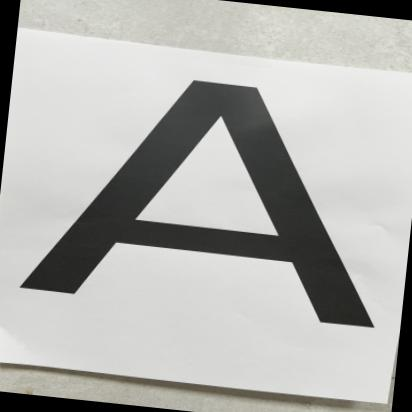seat: (0, 37, 412, 350)
